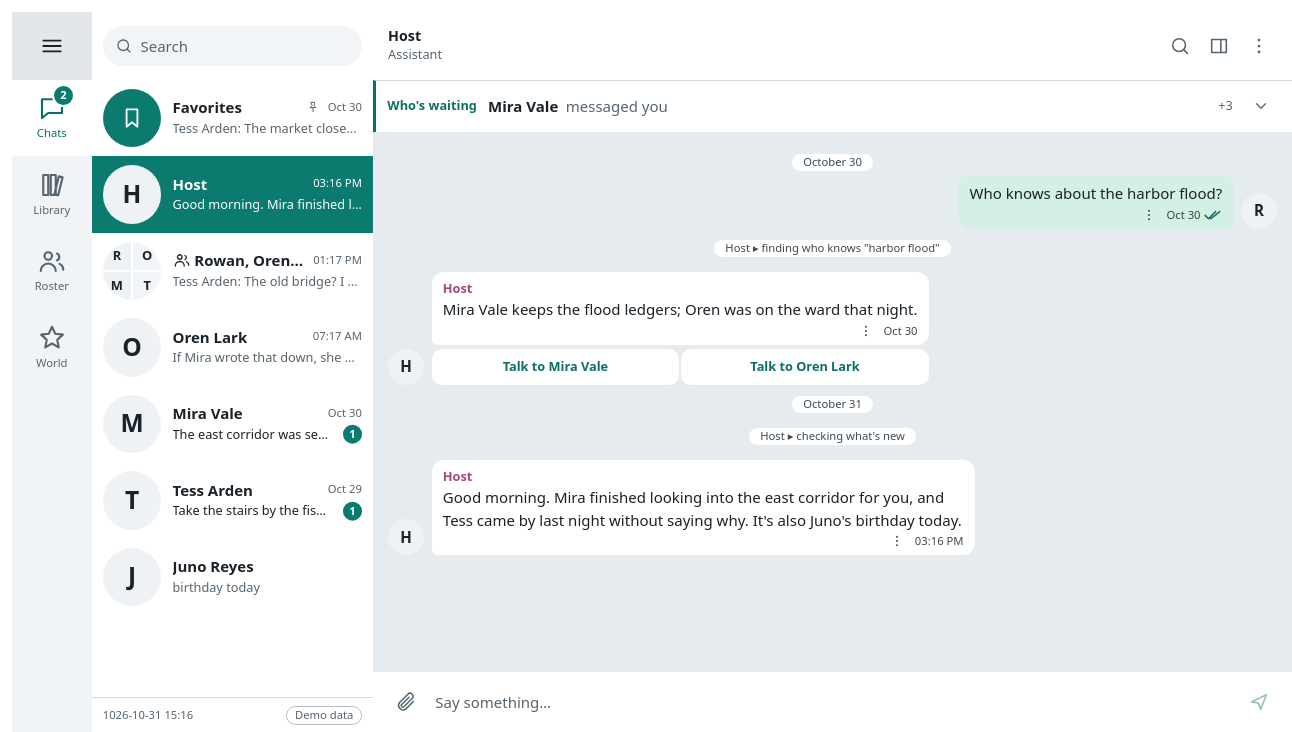
Scenario: a note typed in the favorites stays there without an answer, and there is no more menu or archive for them
Click the button that starts with "Favorites". click: (232, 118)
box: x1=92 y1=80 x2=373 y2=156
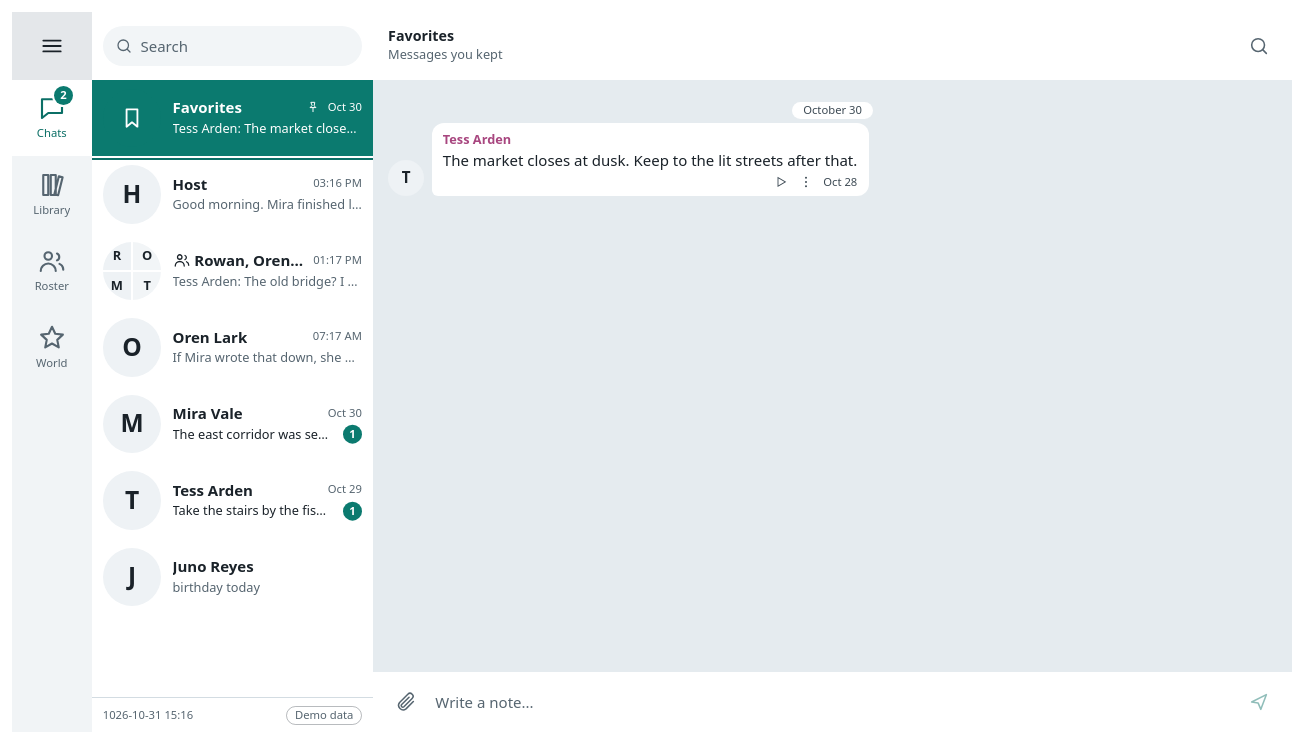
Expected: the element that starts with "October 30" is shown, x1=373 y1=80 x2=1291 y2=672
Expected: the heading "Favorites" is shown, x1=388 y1=26 x2=454 y2=45
Expected: the text "Messages you kept" is shown, x1=388 y1=45 x2=502 y2=63
